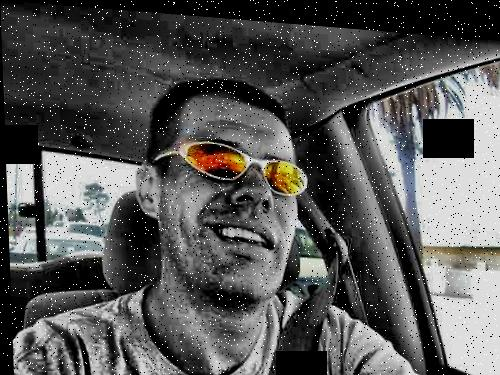seatbelt: (263, 210, 358, 375)
